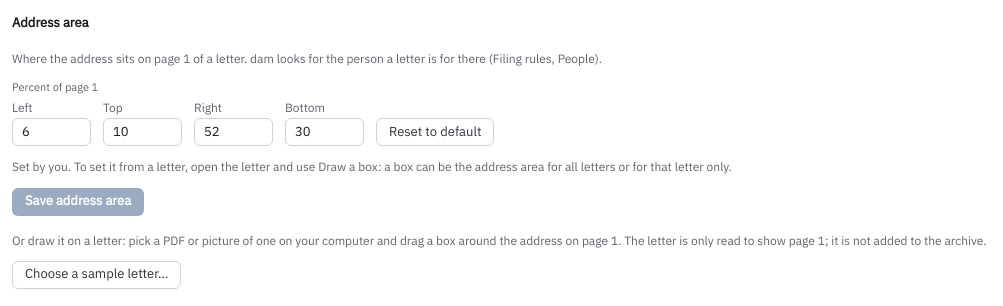
Test: AddressAreaSettings › saves a changed area with the people as they are
Expected: the number field labelled "Left" holds "6", [12,118,91,146]
Expected: the text "Set by you." is shown, [12,159,71,174]
Replace the text in the number field labelled "Right" with "60": (234, 132) [194,118,273,146]
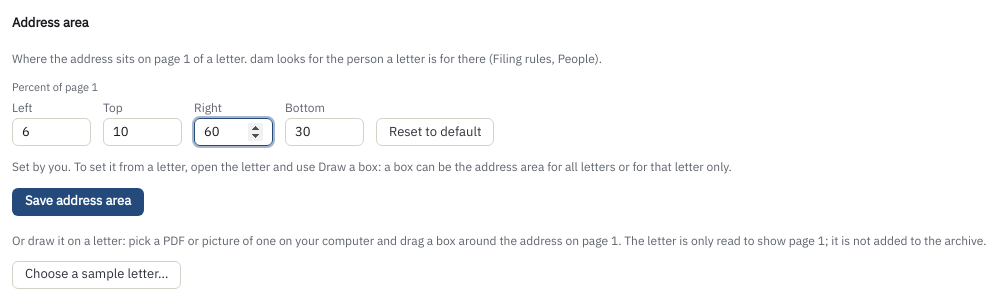
Click the button "Save address area": (78, 202) [12,188,144,216]
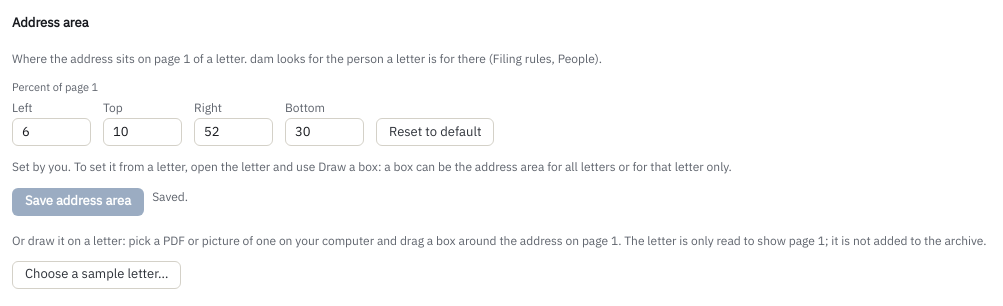
Expected: the text "Saved." is shown, [152,188,188,204]
